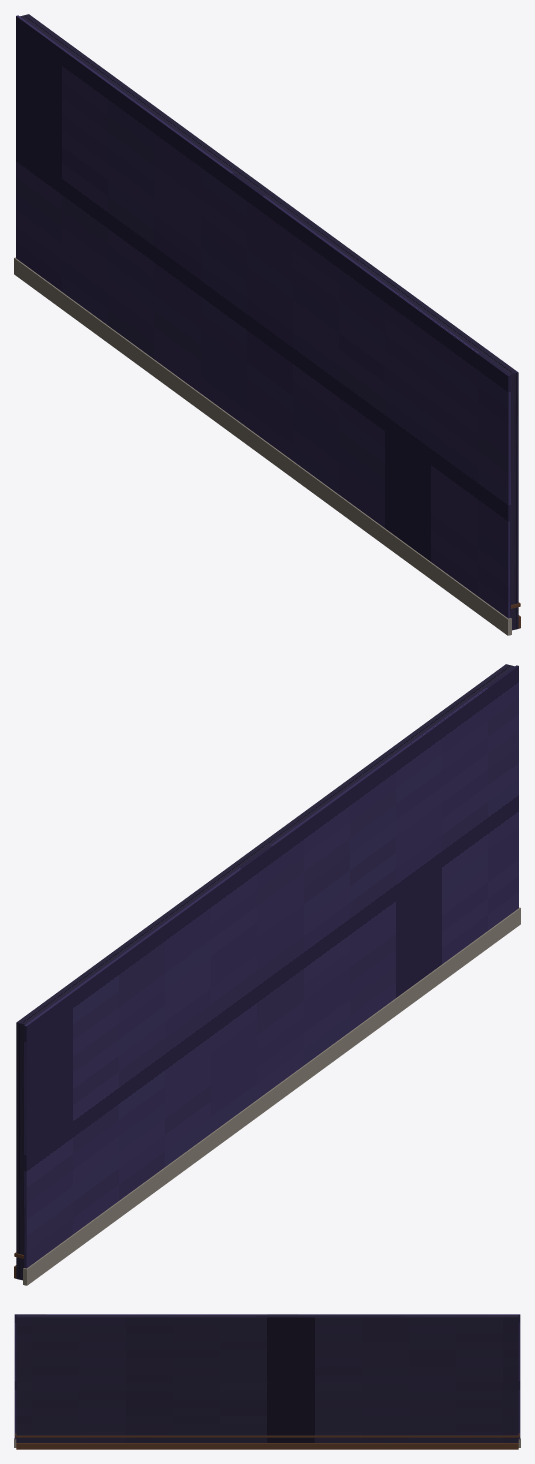
Rendered from left.glb.
The picture shows the model from 3 angles, top to bottom: view 1: azimuth 30°, elevation 25°; view 2: azimuth 150°, elevation 25°; view 3: azimuth 270°, elevation 25°; orthographic projection. The views are drawn at different scales.
Parts seen in each view (by area): view 1: Box3, Box4, Box1; view 2: Box3, Box4, Box1; view 3: Box1, Box2, Box5, Box6, Box3.
Part boxes in pixels (x1,y1,x2,y2): Box3: (16, 15, 510, 618); Box4: (14, 257, 511, 635); Box1: (20, 14, 518, 630); Box3: (24, 665, 518, 1268); Box4: (23, 907, 520, 1285); Box1: (16, 664, 514, 1280); Box1: (16, 1315, 518, 1442); Box2: (16, 1443, 518, 1449); Box5: (16, 1437, 518, 1442); Box6: (15, 1433, 519, 1437); Box3: (14, 1314, 520, 1439).
Bounding box in the file's own units: 0.25 × 4.04 × 13.97.
4 materials, 2 textured.
